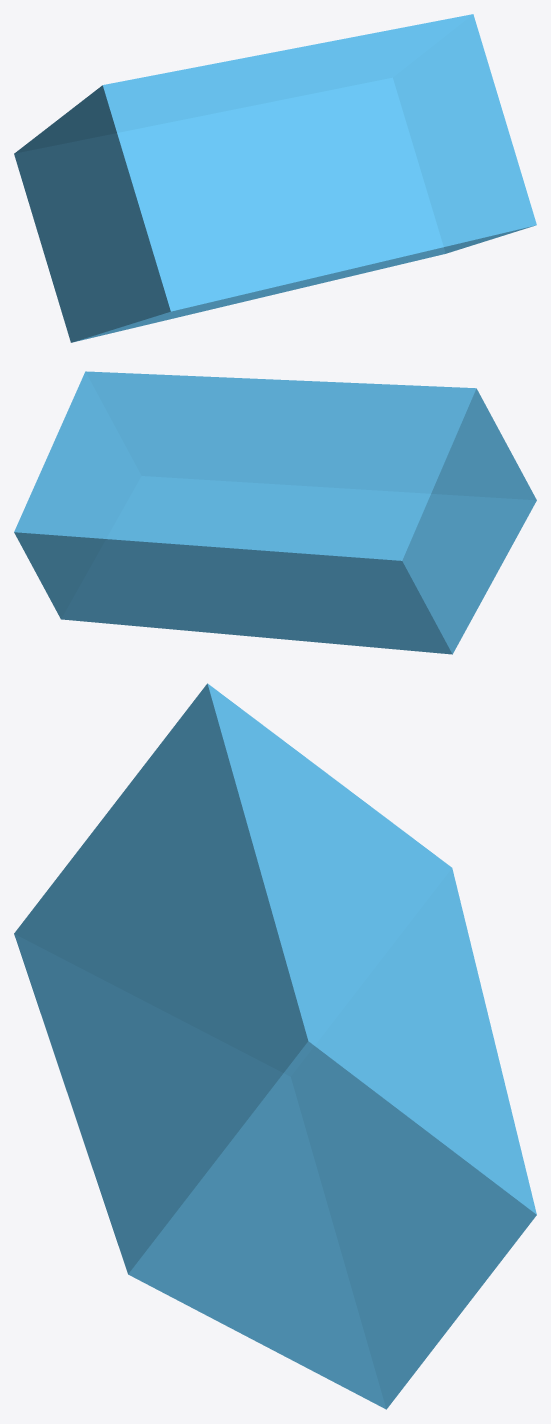
The model's file is Event_420604493_HErechit_5.fbx.
3 renders of one model, top to bottom at view 1: azimuth 30°, elevation 25°; view 2: azimuth 150°, elevation 25°; view 3: azimuth 270°, elevation 25°, orthographic. The views are drawn at different scales.
Parts seen in each view (by area): view 1: Model; view 2: Model; view 3: Model.
Boxes of the visible parts, box(x1,y1,x2,y2) form: Model: box(14, 14, 536, 342); Model: box(14, 371, 536, 654); Model: box(14, 683, 536, 1409).
Size of the model in its own units: 0.7474 by 0.549 by 0.5843.
